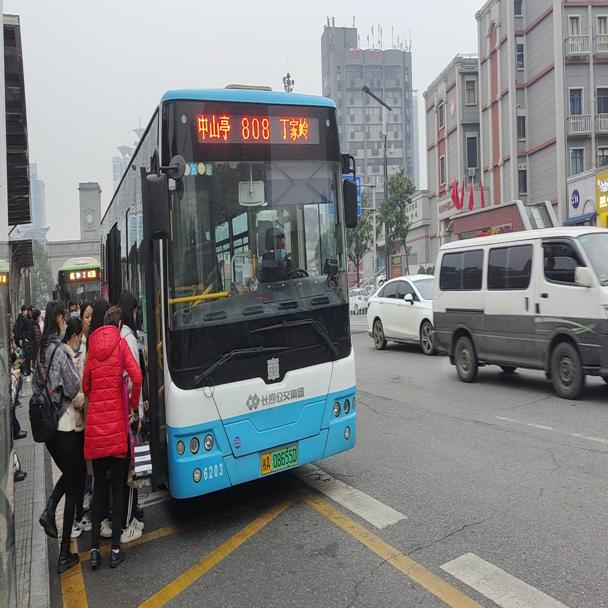bus: (99, 77, 361, 501), (58, 257, 101, 297)
screen: (235, 112, 273, 139), (80, 270, 87, 279)
